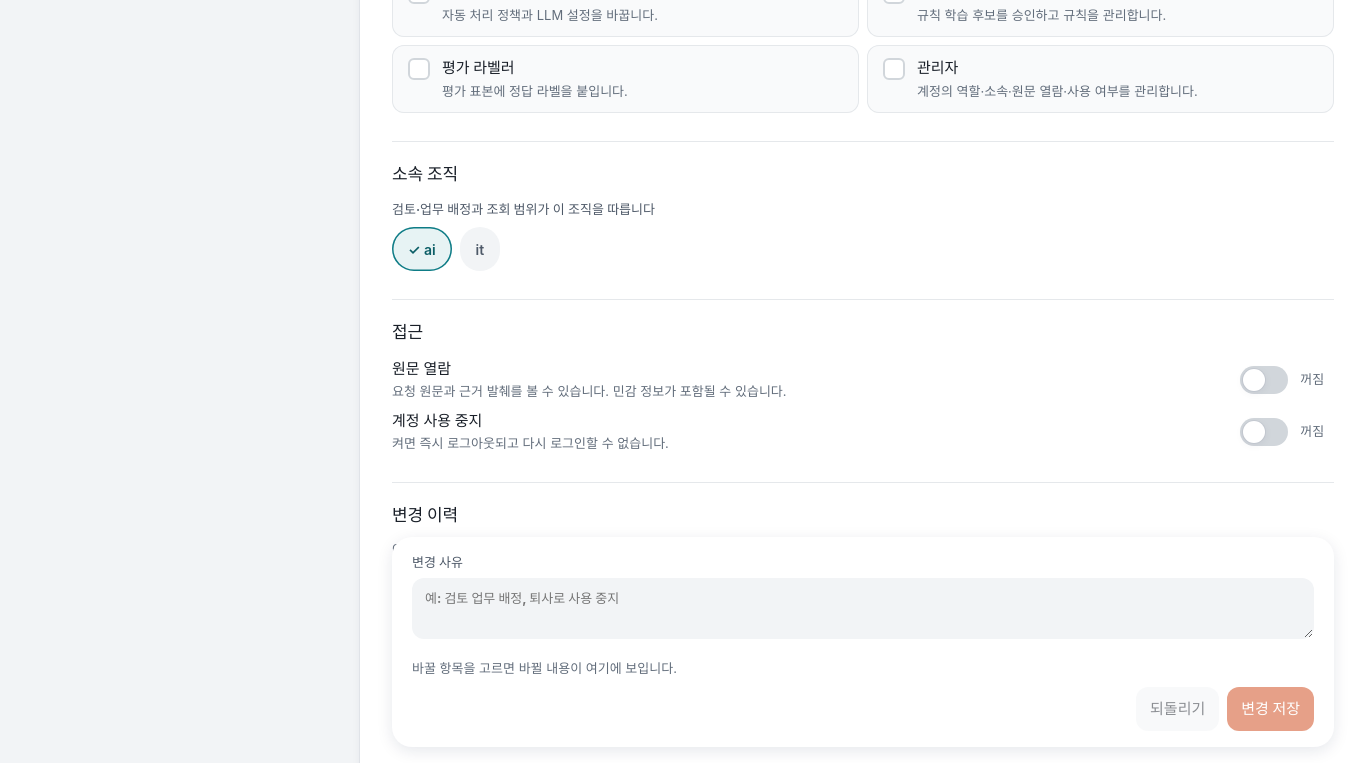
Test: account administration › reloads conflicting changes and clears the draft (self=false)
The image size is (1366, 763).
(page scrolled)
Click the 1st switch named "원문 열람".
click(1264, 380)  # box [1240, 366, 1288, 394]
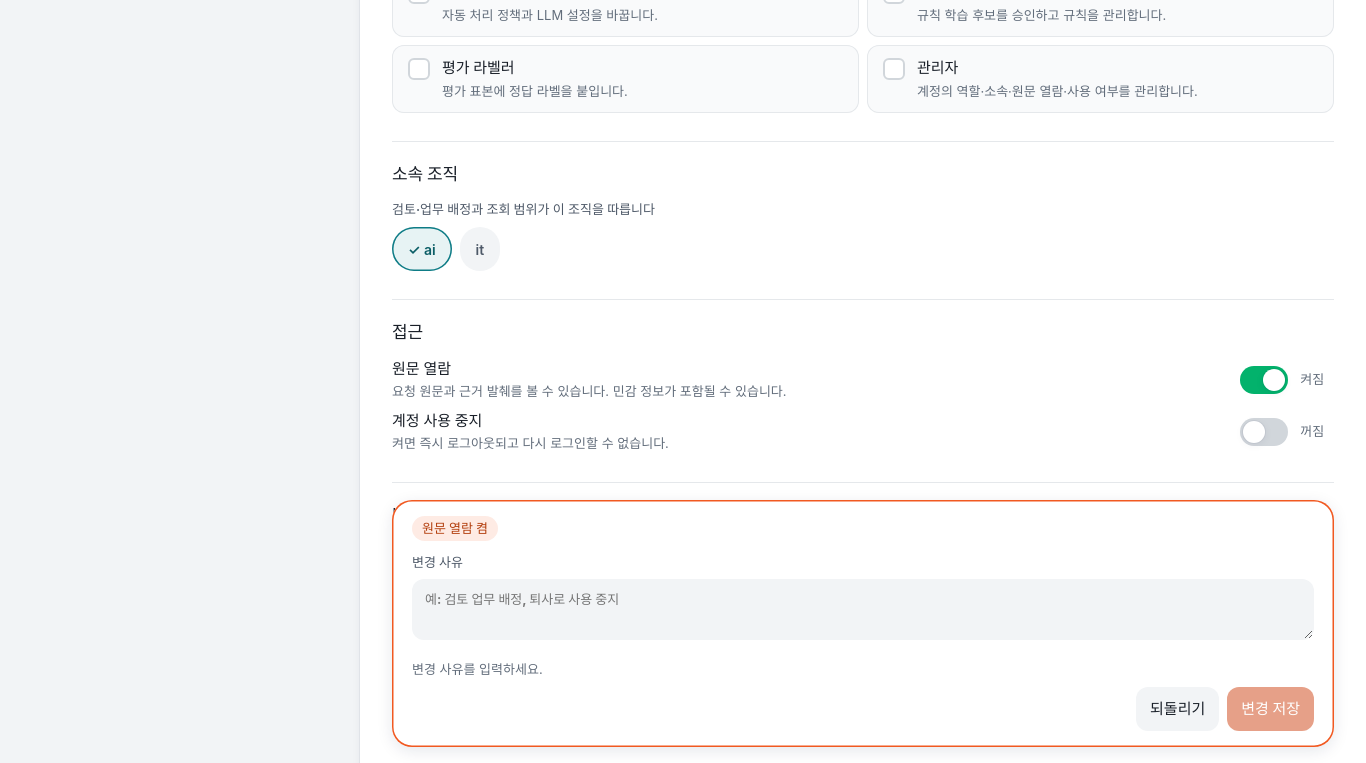
Type "update access" into the text box labelled "변경 사유".
click(863, 609); type("update access")  # box [412, 578, 1314, 640]
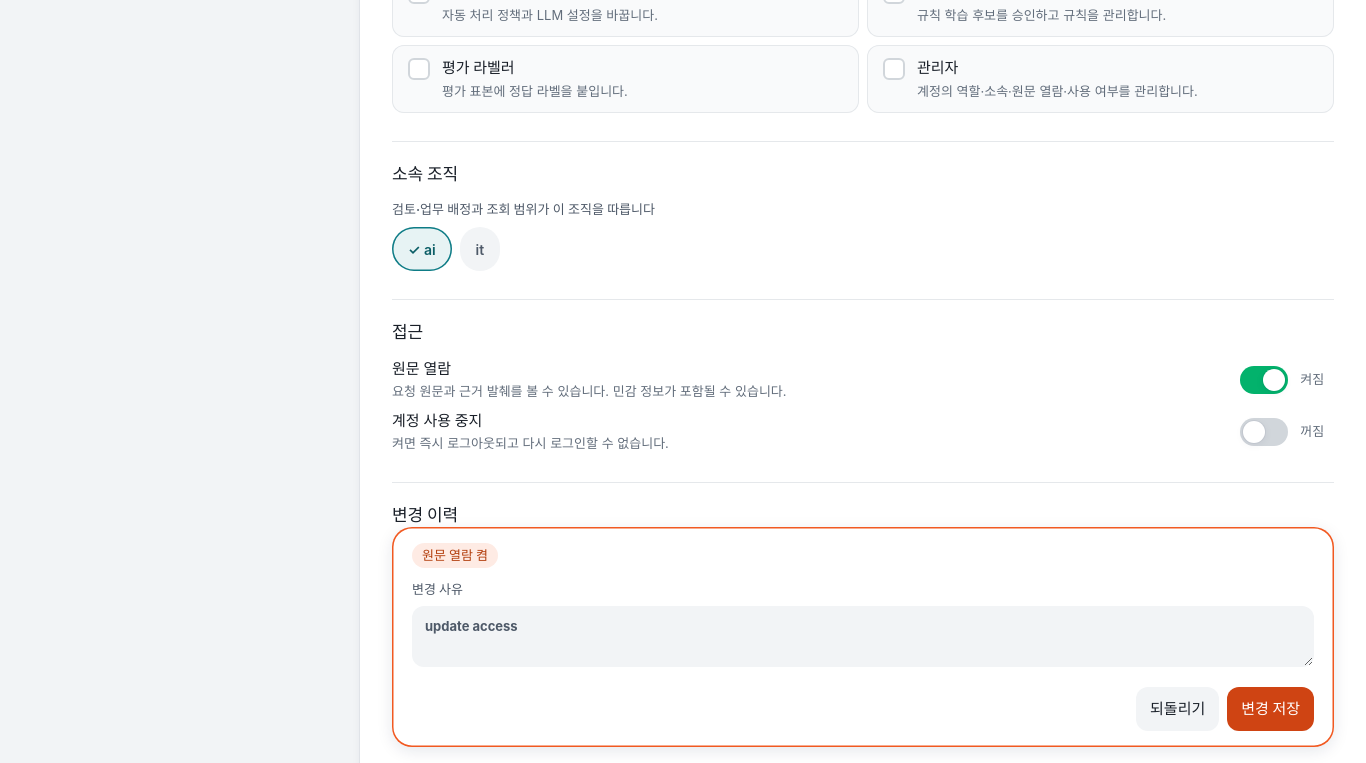
Click the button "변경 저장".
click(1271, 709)  # box [1227, 687, 1314, 731]
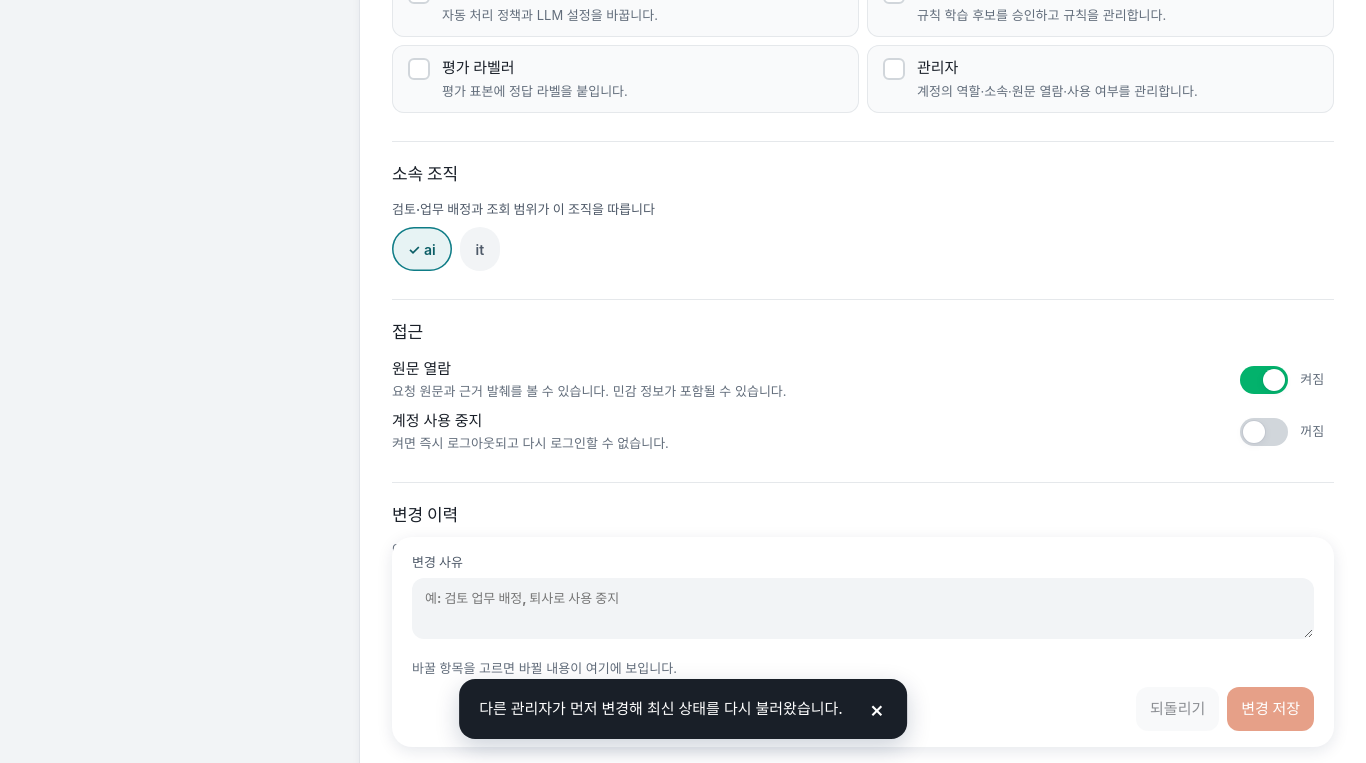
expect the text box labelled "변경 사유" is empty: met, box [412, 578, 1314, 640]
expect the button "변경 저장" is disabled: met, box [1227, 687, 1314, 731]
